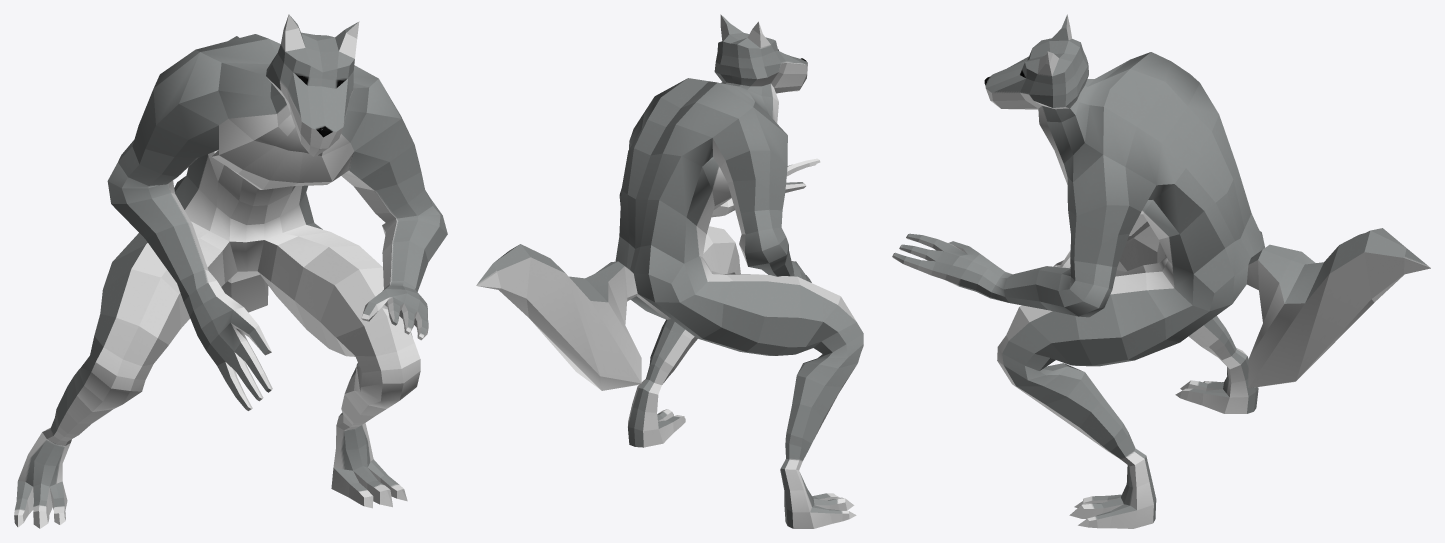
File: WolfAttack(91).obj
The picture shows the model from 3 angles, left to right: view 1: azimuth 30°, elevation 25°; view 2: azimuth 150°, elevation 25°; view 3: azimuth 270°, elevation 25°; orthographic projection. The views are drawn at different scales.
Parts seen in each view (by area): view 1: Box001; view 2: Box001; view 3: Box001.
Part boxes in pixels (x1,y1,x2,y2): Box001: (14,14,447,528); Box001: (476,14,863,528); Box001: (892,14,1430,528).
Size of the model in its own units: 83.88 by 117 by 124.
